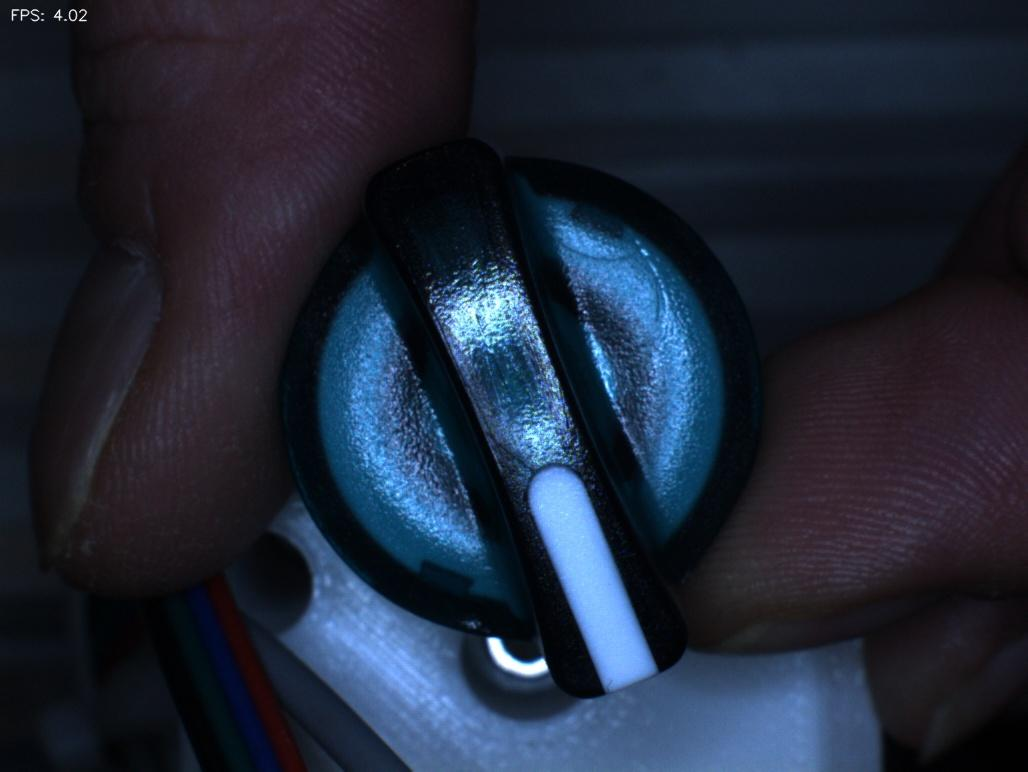Choc: (427, 575, 502, 671)
